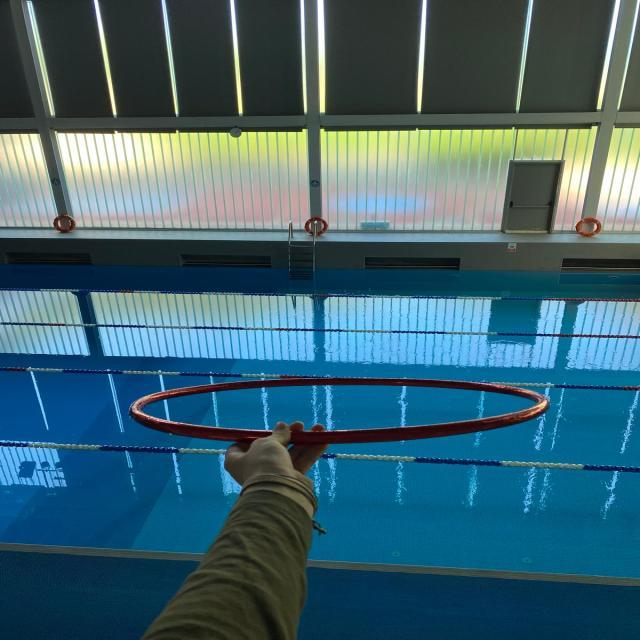Circle: (124, 374, 553, 449)
